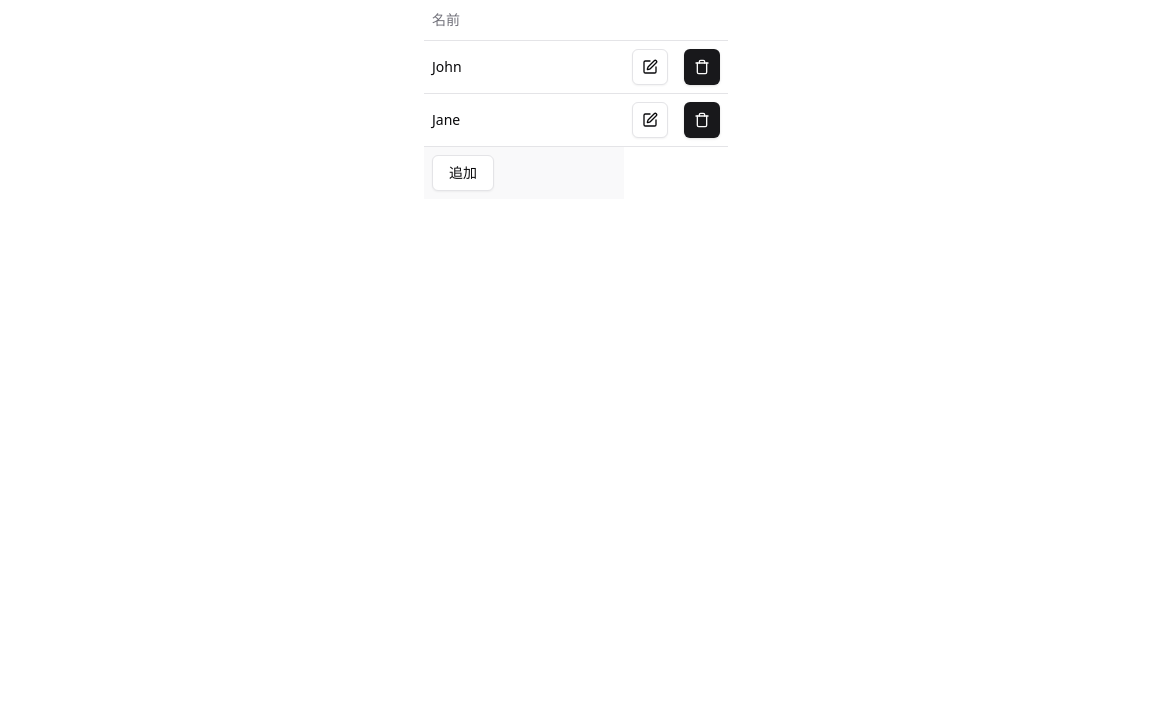
Test: ClientPurchasersTable › 削除ボタンをクリックすると確認ダイアログが表示される
This screenshot has width=1152, height=720.
Step 1. Click the button named "Delete" in the row of "John" → (702, 66), box x1=684 y1=48 x2=720 y2=84
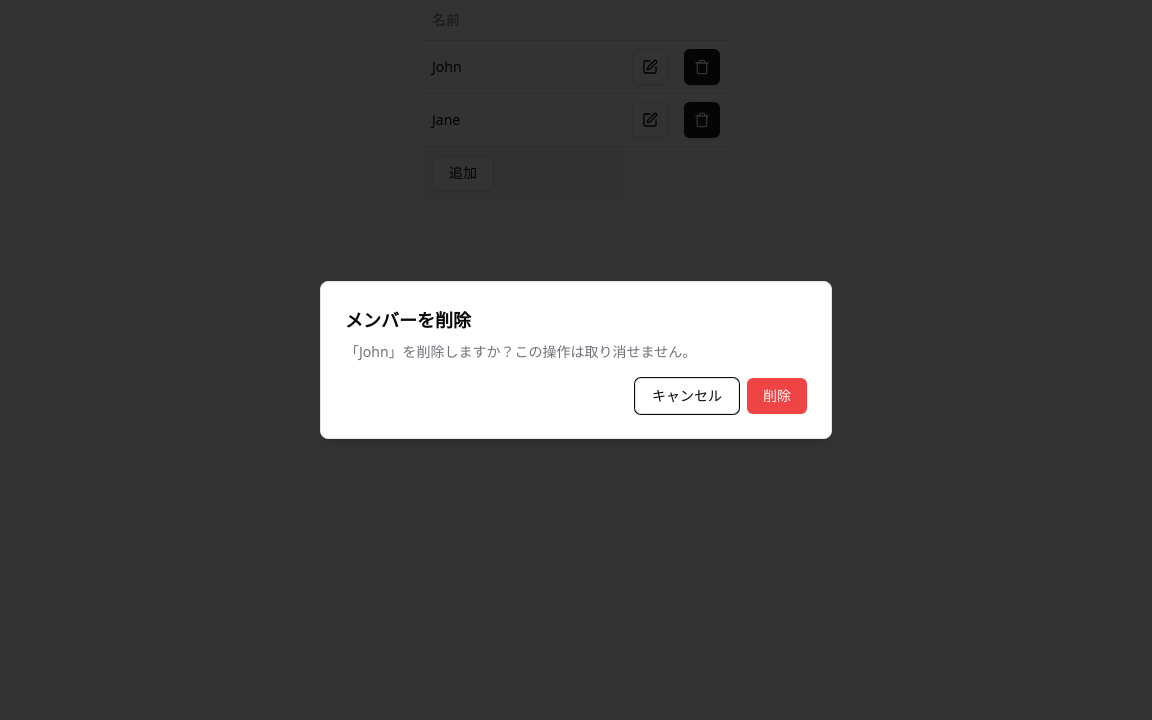
Check: the dialog is shown, box x1=320 y1=281 x2=832 y2=439
Check: the heading "メンバーを削除" is shown, box x1=345 y1=308 x2=471 y2=332
Check: the text "「John」を削除しますか？この操作は取り消せません。" is shown, box x1=345 y1=342 x2=696 y2=361
